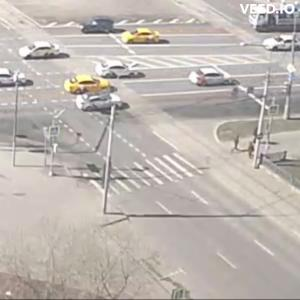car: (74, 91, 130, 114), (64, 74, 112, 97), (96, 60, 146, 81), (190, 67, 236, 88), (119, 31, 165, 50), (20, 42, 64, 61), (263, 36, 300, 53), (82, 19, 116, 36), (2, 71, 33, 88)
